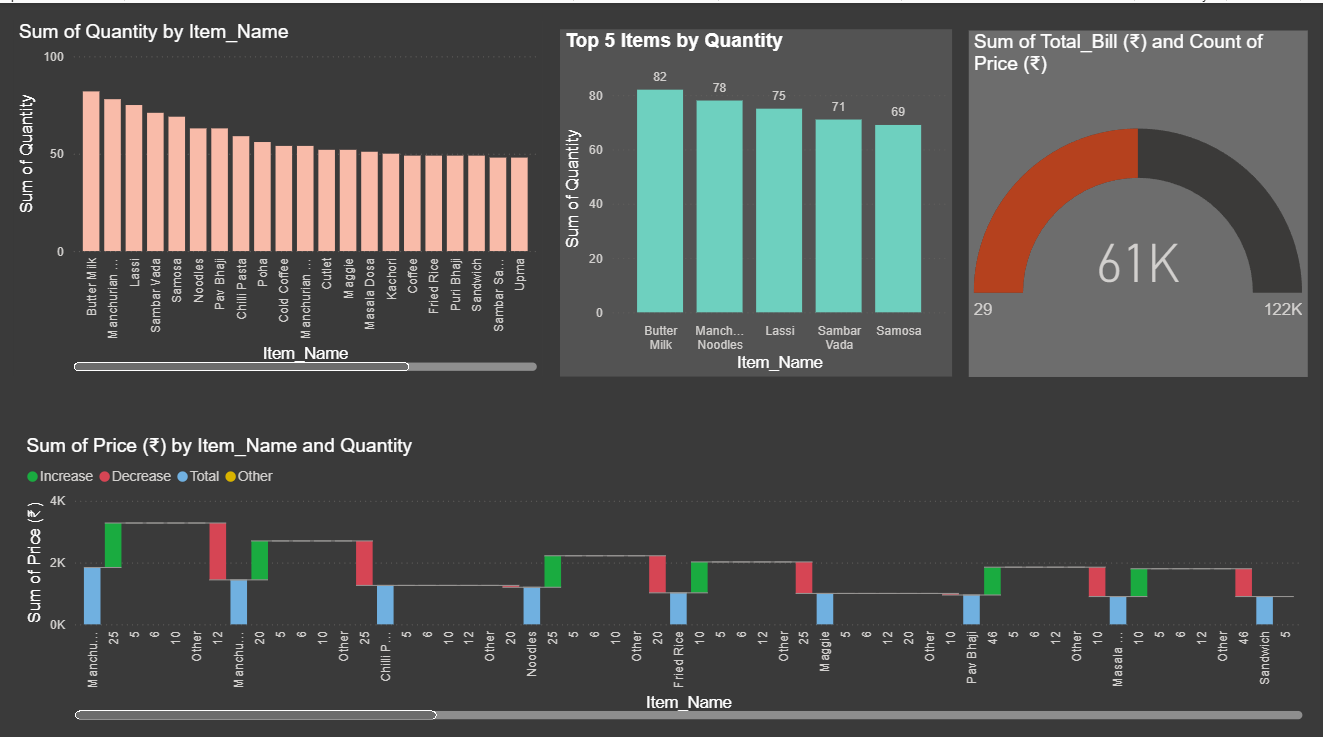

What the dashboard file says about the page in this screenshot:
{"tool":"powerbi","page":{"name":"Item-wise Sales Quantity and Revenue Insights","canvas":[1280,720],"ordinal":2},"visuals":[{"type":"lineStackedColumnComboChart","fields":{"Category":["Customer_Billing.Item_Name"],"Y":["Sum(Customer_Billing.Quantity)"]},"box":[13.3,16.7,510,343.3],"z":0},{"type":"gauge","fields":{"Y":["Sum(Customer_Billing.Total_Bill (₹))"],"MinValue":["CountNonNull(Item_Details.Price (₹))"]},"box":[935,26.5,326.9,334.2],"z":1000},{"type":"waterfallChart","fields":{"Category":["Customer_Billing.Item_Name"],"Breakdown":["Item_Details.Quantity"],"Y":["Sum(Customer_Billing.Price (₹))"]},"box":[20,416.7,1241.7,280],"z":2000},{"type":"clusteredColumnChart","title":"Top 5 Items by Quantity","fields":{"Category":["Customer_Billing.Item_Name"],"Y":["Sum(Customer_Billing.Quantity)"]},"box":[540,25,378.3,335],"z":3000}]}

Visuals, with their boxes in screenshot pixels (x1, y1, x2, y2), scaled from the page's 1280x720 canvas onto the 1323x737 screenshot:
lineStackedColumnComboChart - Customer_Billing.Item_Name x Sum(Customer_Billing.Quantity): [14, 17, 541, 368]
gauge - Sum(Customer_Billing.Total_Bill (₹)) x CountNonNull(Item_Details.Price (₹)): [966, 27, 1304, 369]
waterfallChart - Customer_Billing.Item_Name x Item_Details.Quantity: [21, 427, 1304, 713]
"Top 5 Items by Quantity" clusteredColumnChart: [558, 26, 949, 368]
